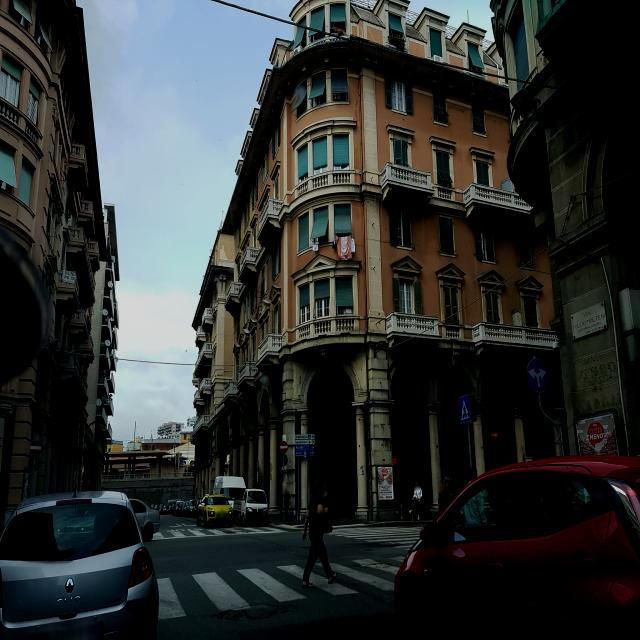car: (393, 458, 640, 640), (0, 487, 160, 640), (213, 475, 248, 523), (197, 493, 234, 528), (242, 487, 270, 525), (129, 499, 159, 533), (184, 500, 197, 517), (174, 502, 183, 516), (167, 504, 176, 514), (159, 505, 167, 514)
